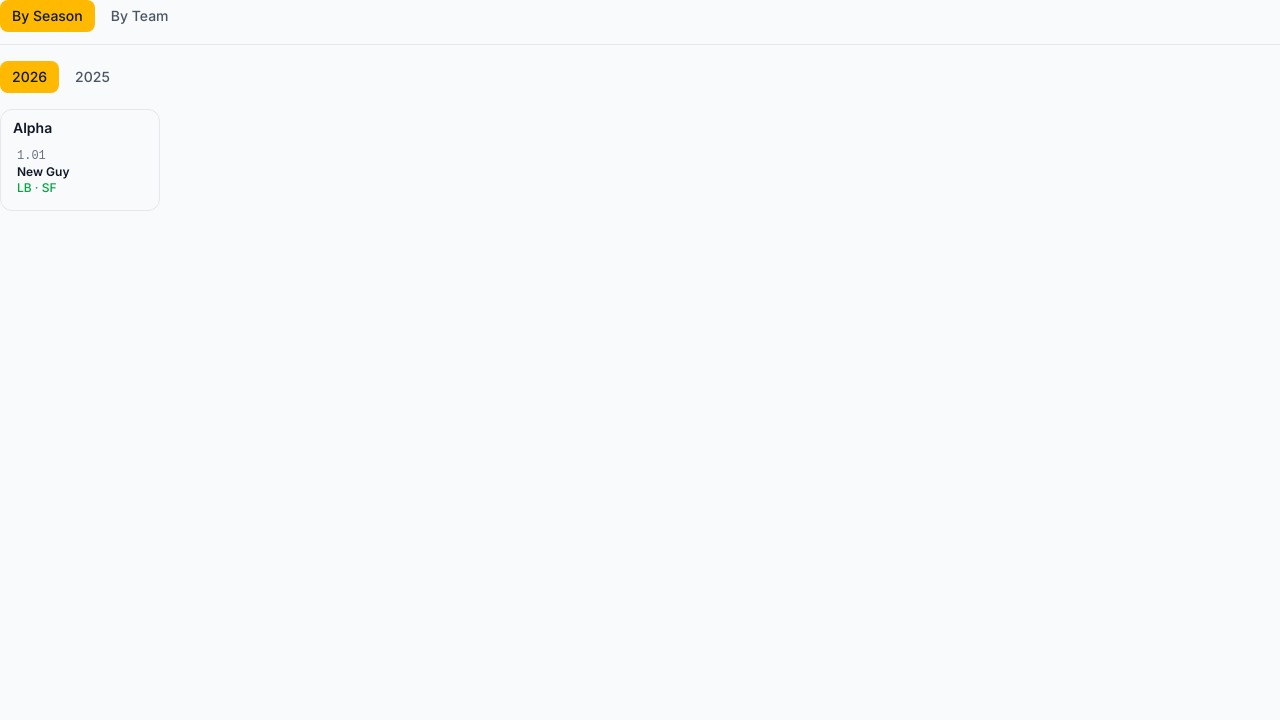
Test case: DraftBoardView › closes the modal on Escape
Click the text "New Guy" at (43, 172), box [17,164,70,179]
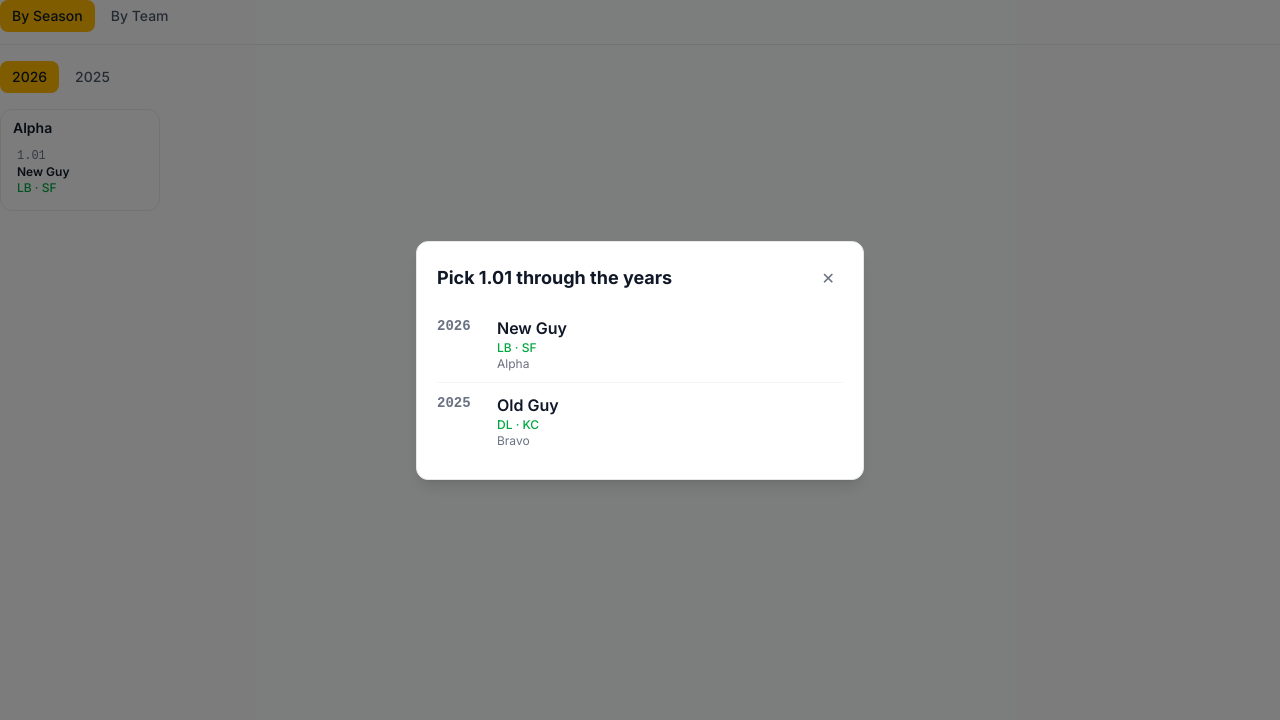
Check: the dialog is shown, box [416,240,864,480]
Press Escape
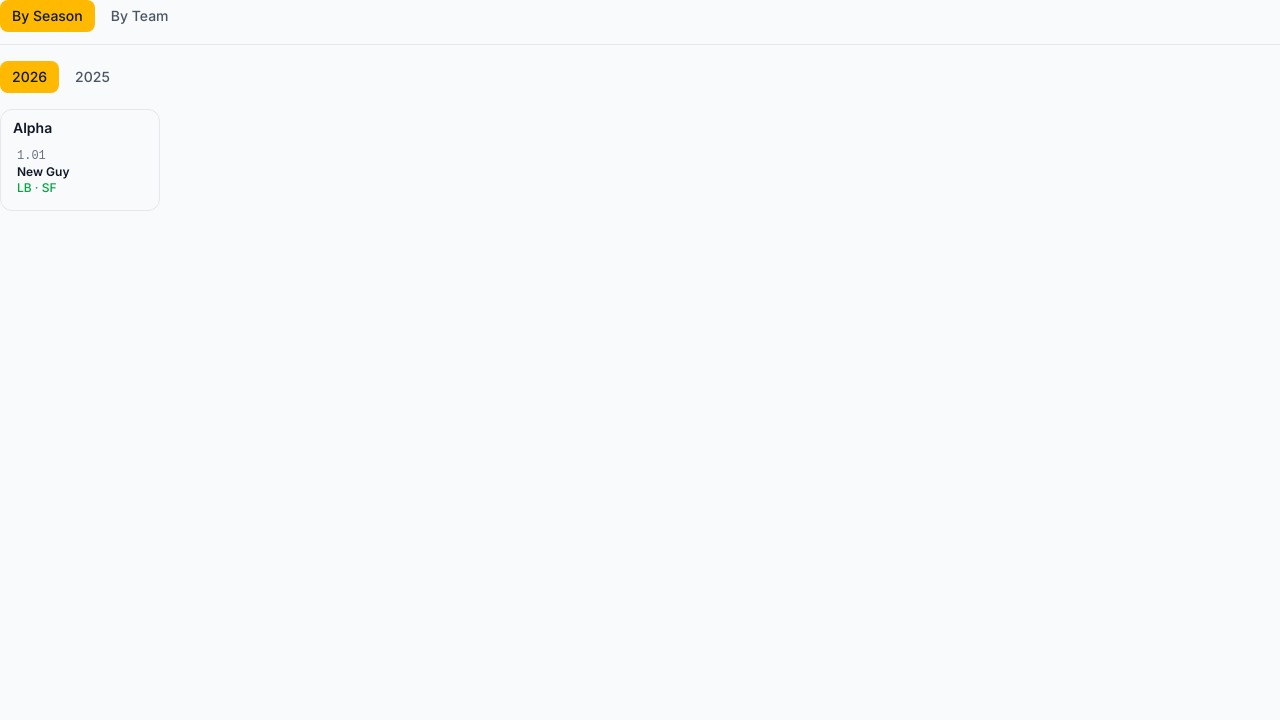
Check: the dialog is gone
